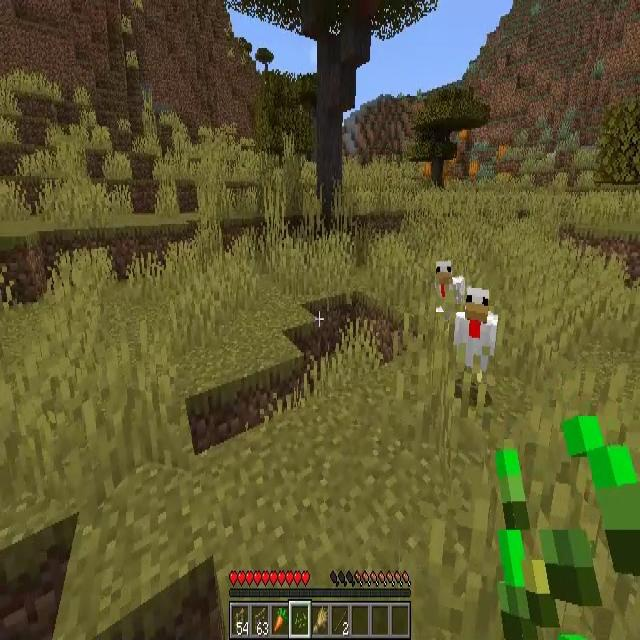duck: (453, 288, 500, 384), (436, 260, 465, 312)
